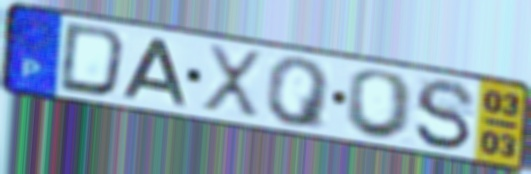A: (119, 36, 191, 110)
D: (55, 20, 129, 100)
O: (341, 67, 418, 143)
Q: (265, 56, 335, 132)
S: (412, 76, 479, 153)
X: (198, 41, 266, 124)
